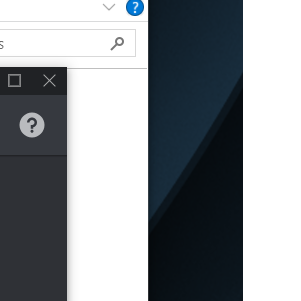close: (37, 69, 62, 92)
